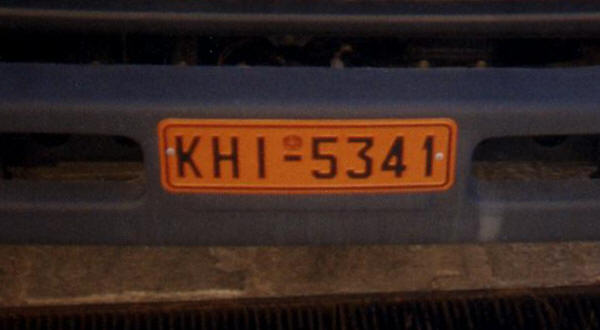license_plate: (159, 119, 457, 191)
